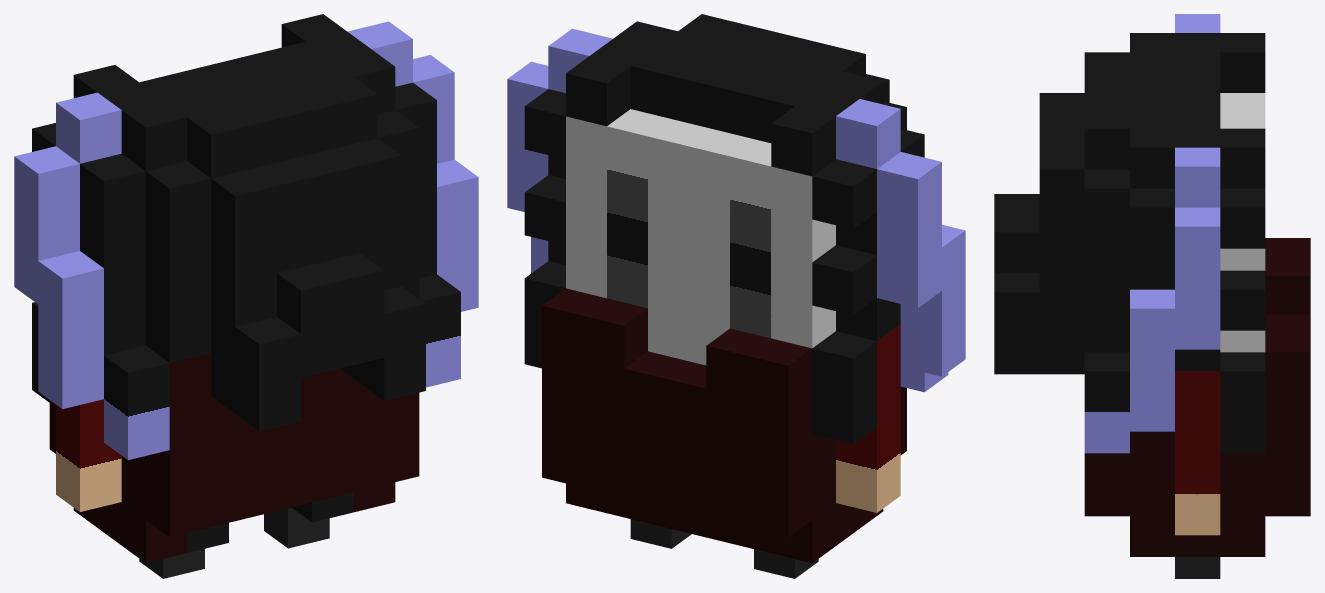
Rendered from chr_goth1.fbx.
3 renders of one model, left to right at view 1: azimuth 30°, elevation 25°; view 2: azimuth 150°, elevation 25°; view 3: azimuth 270°, elevation 25°, orthographic. The views are drawn at different scales.
Visible parts, largest first — view 1: chr_goth1; view 2: chr_goth1; view 3: chr_goth1.
Part boxes in pixels (x1,y1,x2,y2): chr_goth1: (14, 14, 478, 578); chr_goth1: (507, 14, 965, 578); chr_goth1: (994, 14, 1310, 578).
Bounding box in the file's own units: 1 × 0.7 × 1.1.
Materials: 1 (1 with a texture image).
